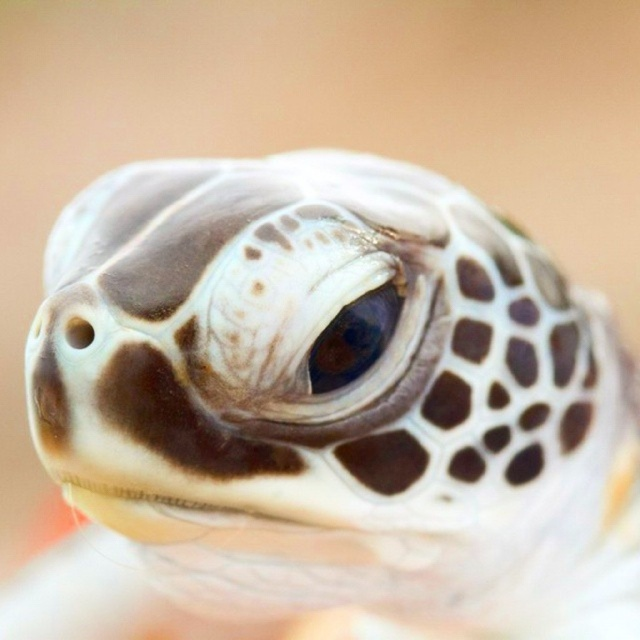Sea turtle: (0, 143, 639, 639)
